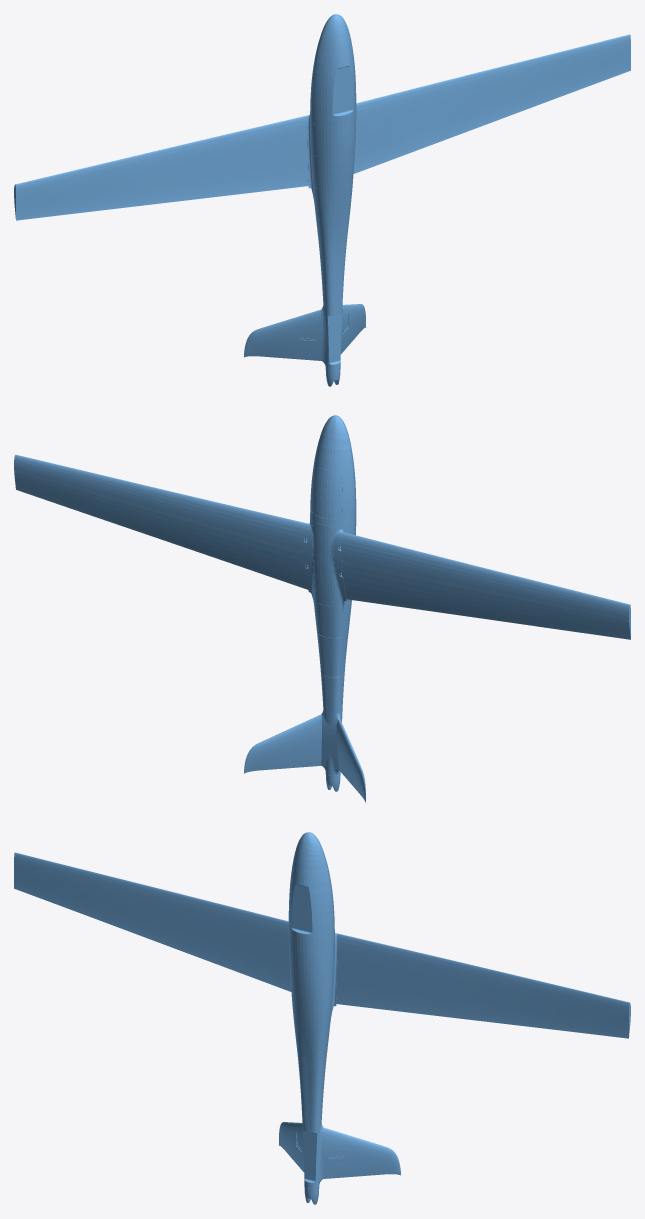
File: Shark.glb
3 renders of one model, top to bottom at view 1: azimuth 30°, elevation 25°; view 2: azimuth 150°, elevation 25°; view 3: azimuth 330°, elevation 25°, orthographic.
Size of the model in its own units: 2344 by 1359 by 264.
